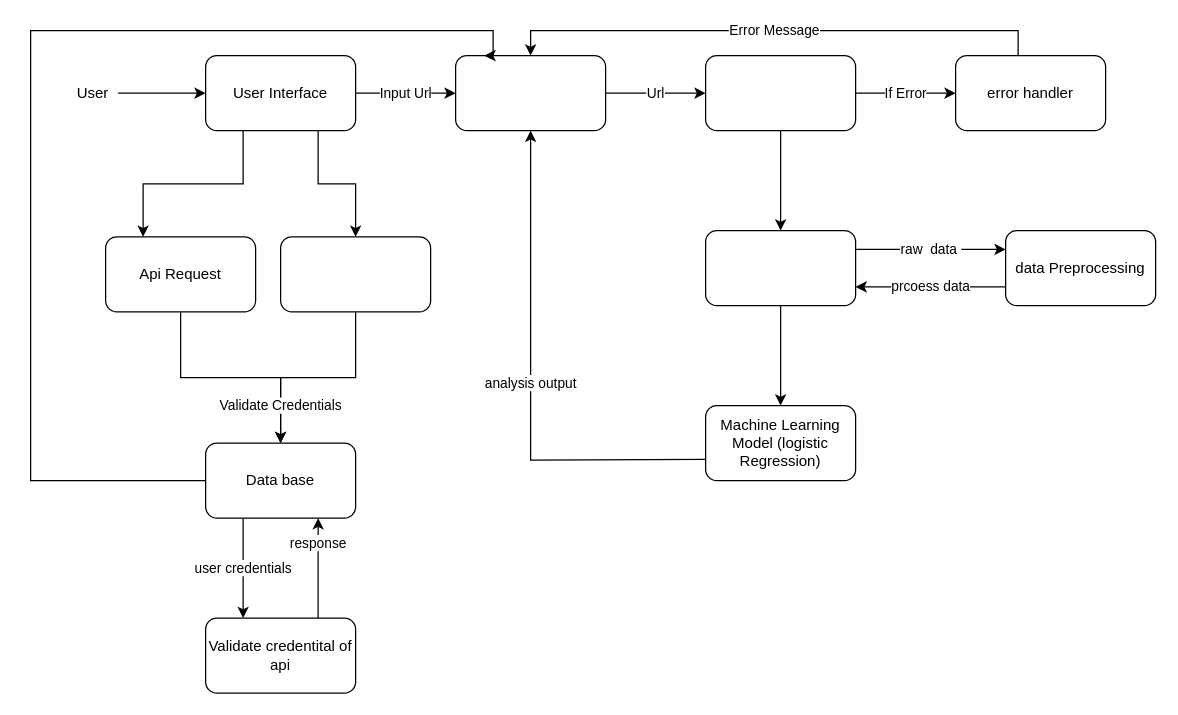
The diagram is 1178 pixels wide and 715 high, and some of its shapes have lost their labels. Each missing label, with the centre of its shape:
"Collect Data From url" goes at (x=780, y=267).
"Process Url" goes at (x=530, y=92).
"User Login" goes at (x=355, y=274).
"Web Scrapper" goes at (x=780, y=92).
